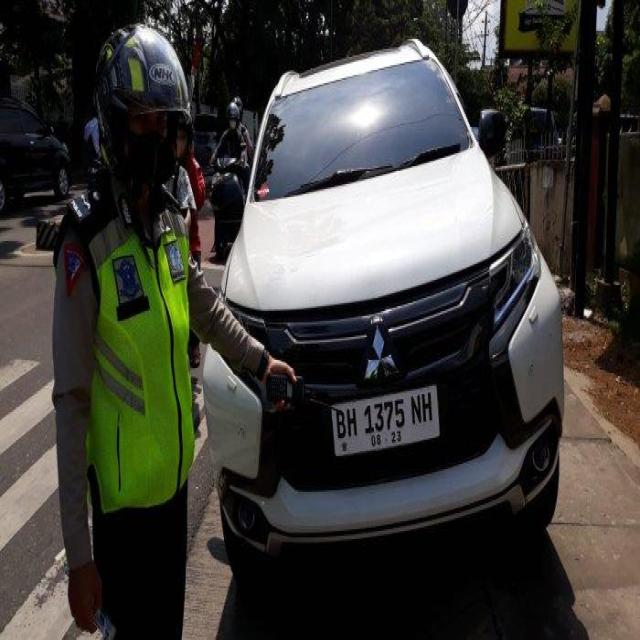license-plat: (328, 384, 457, 481)
